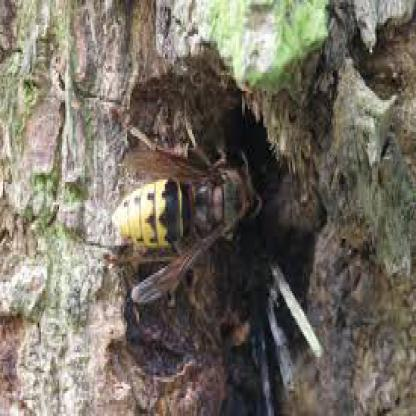european: (95, 102, 260, 294)
